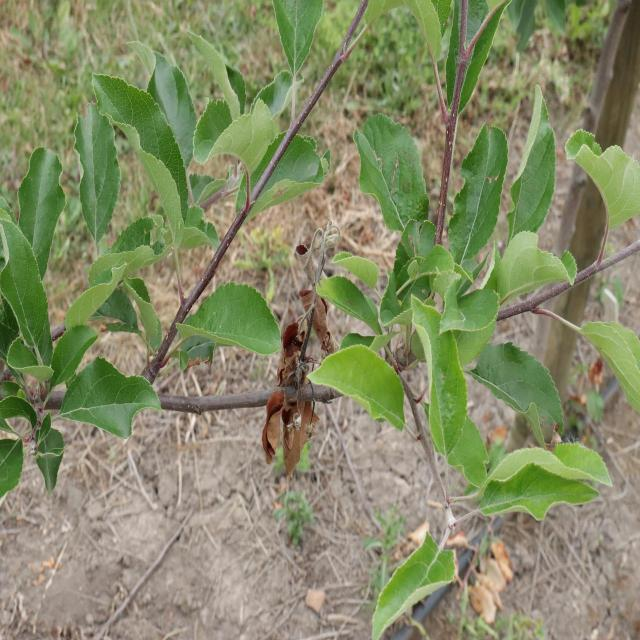-FireBlight-: (266, 294, 320, 480)
